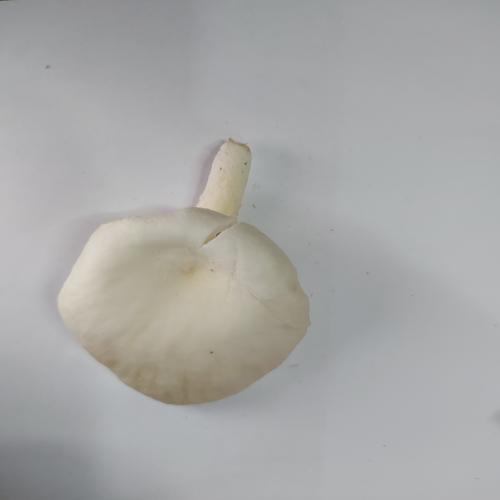Oyster Mushroom: (56, 137, 312, 405)
